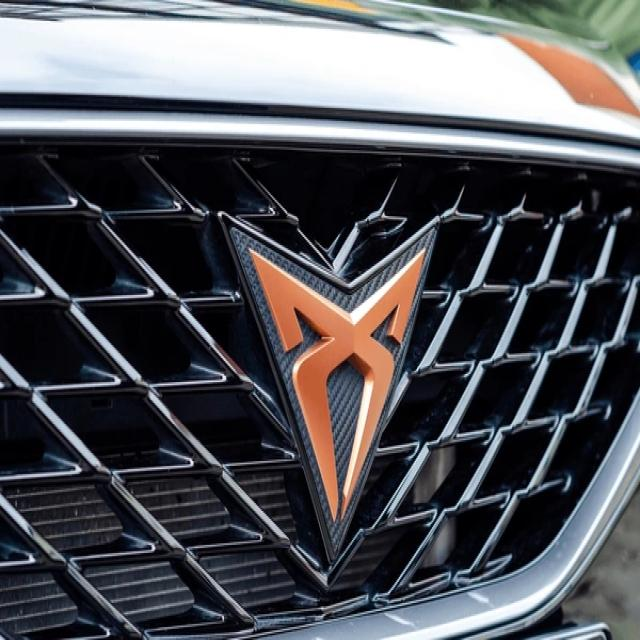cupra: (219, 208, 444, 560)
